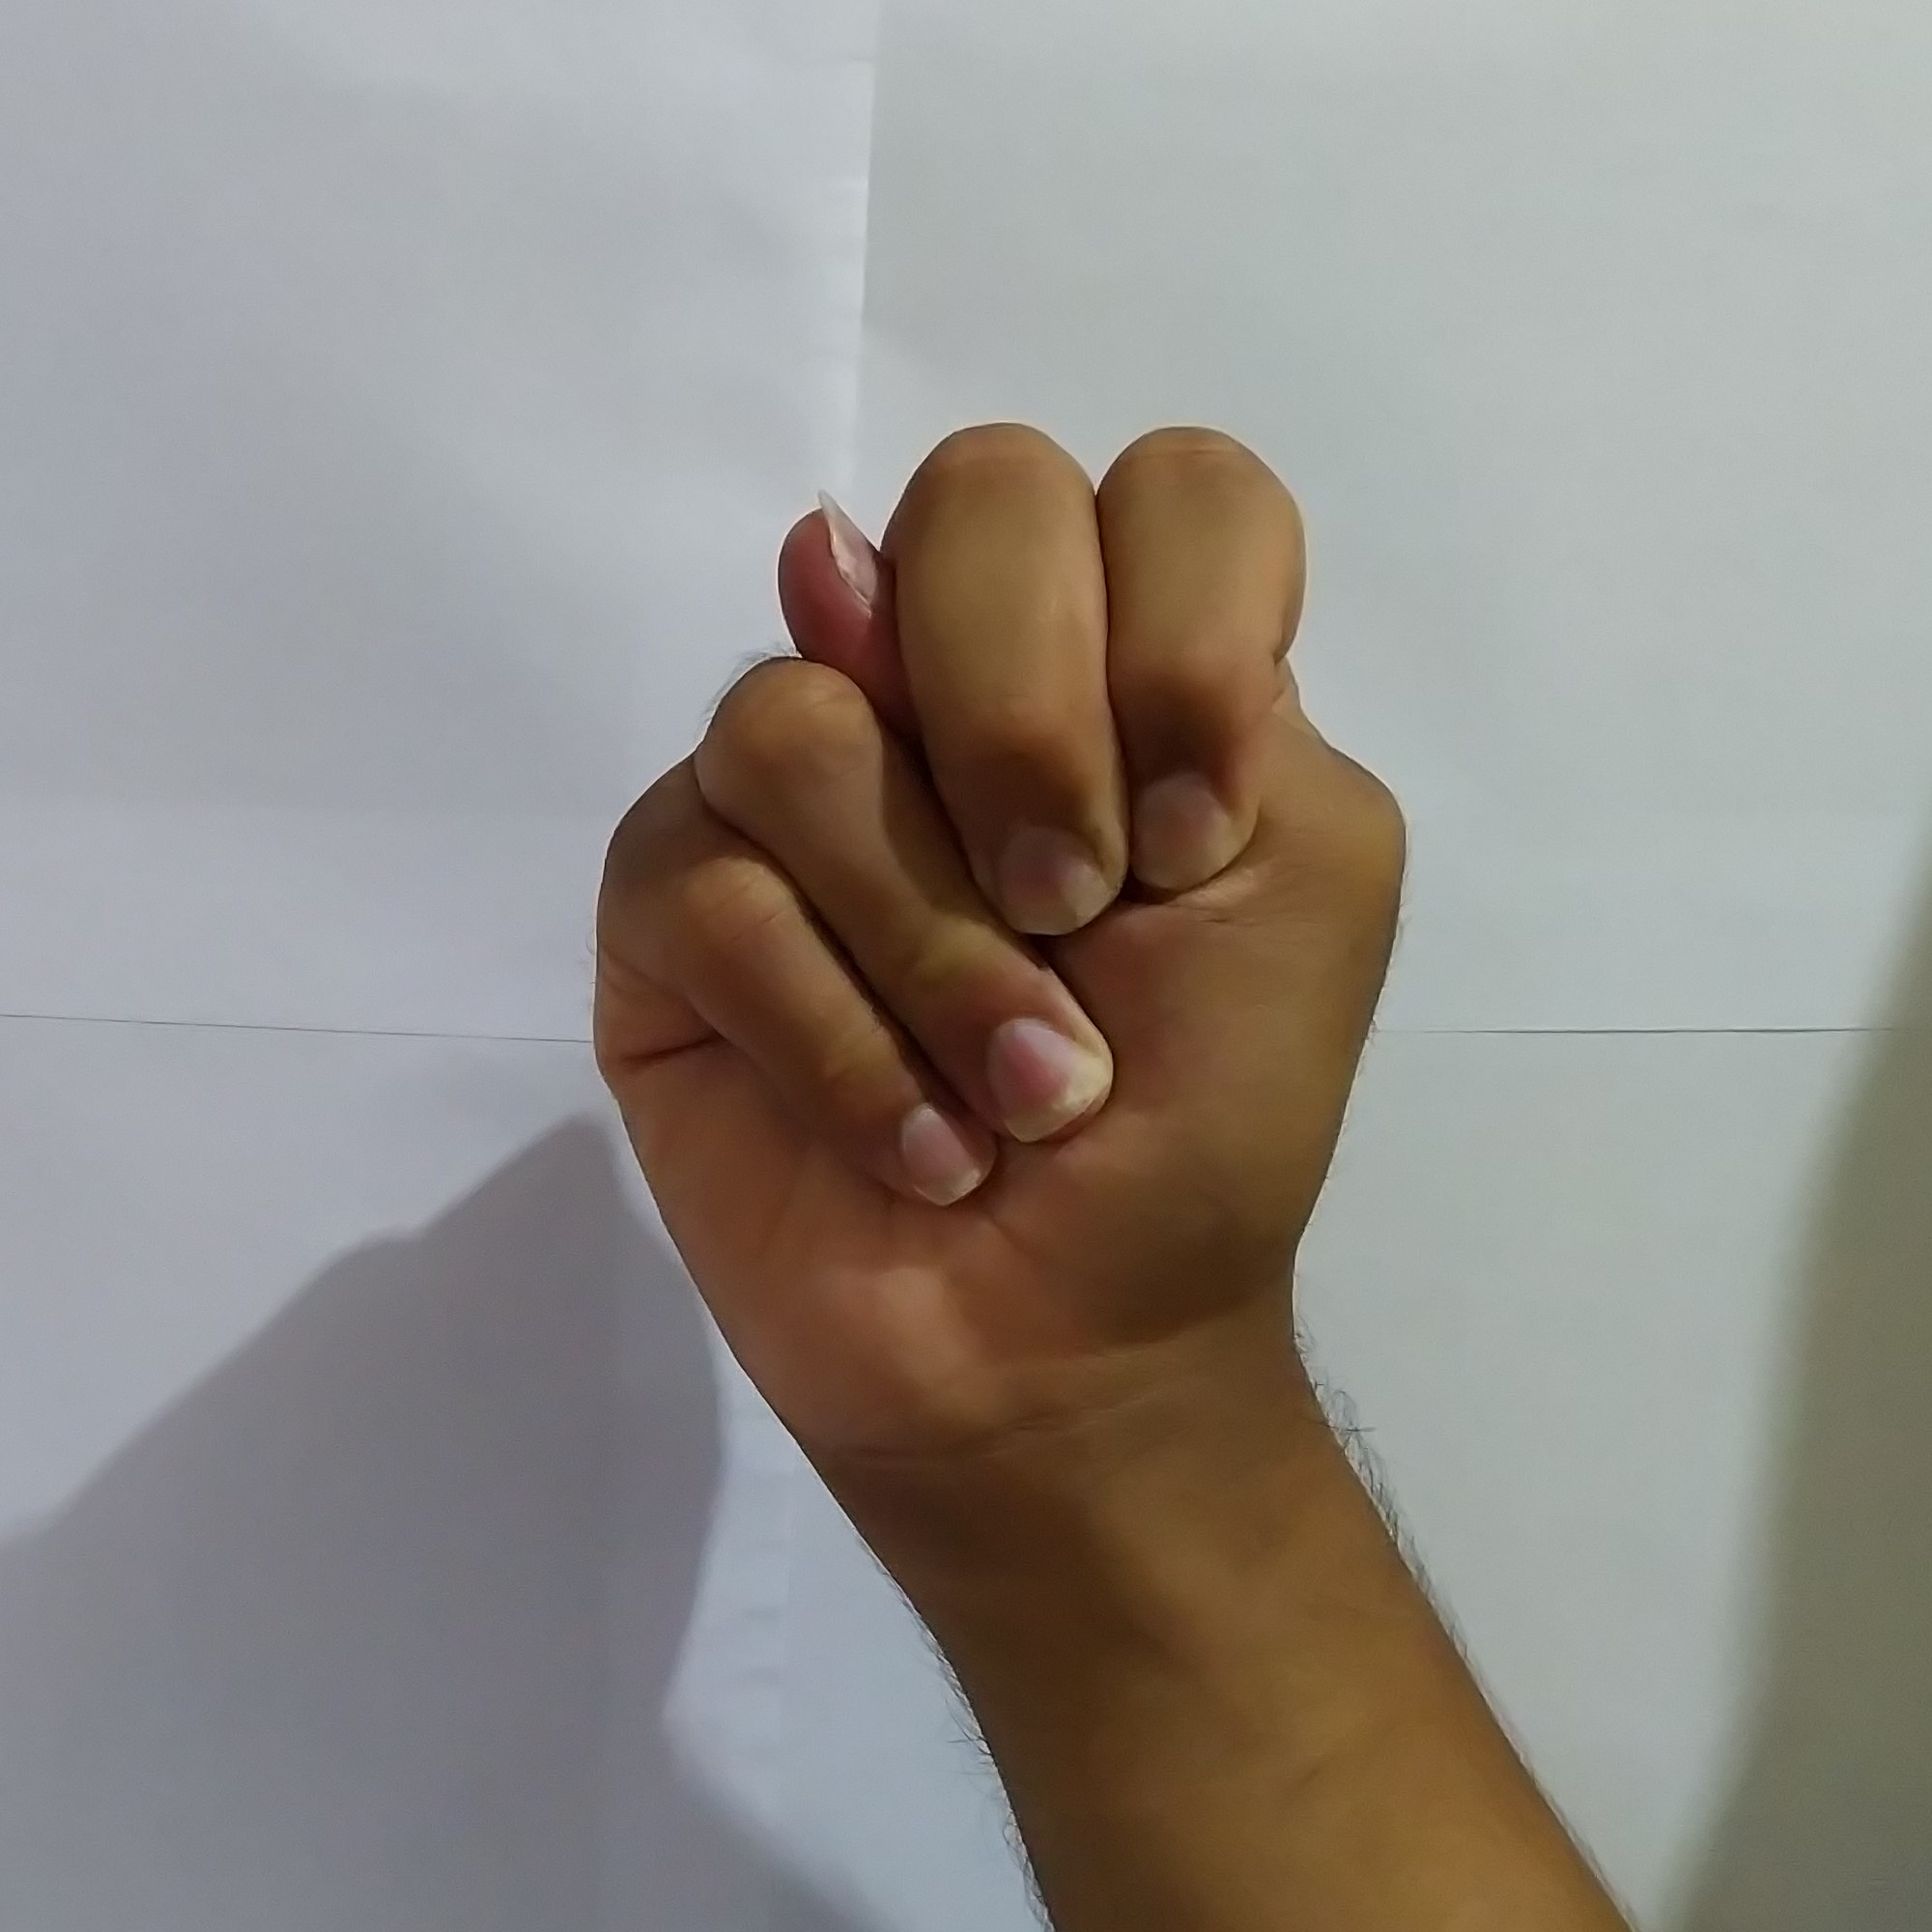N: (557, 398, 1435, 1415)
